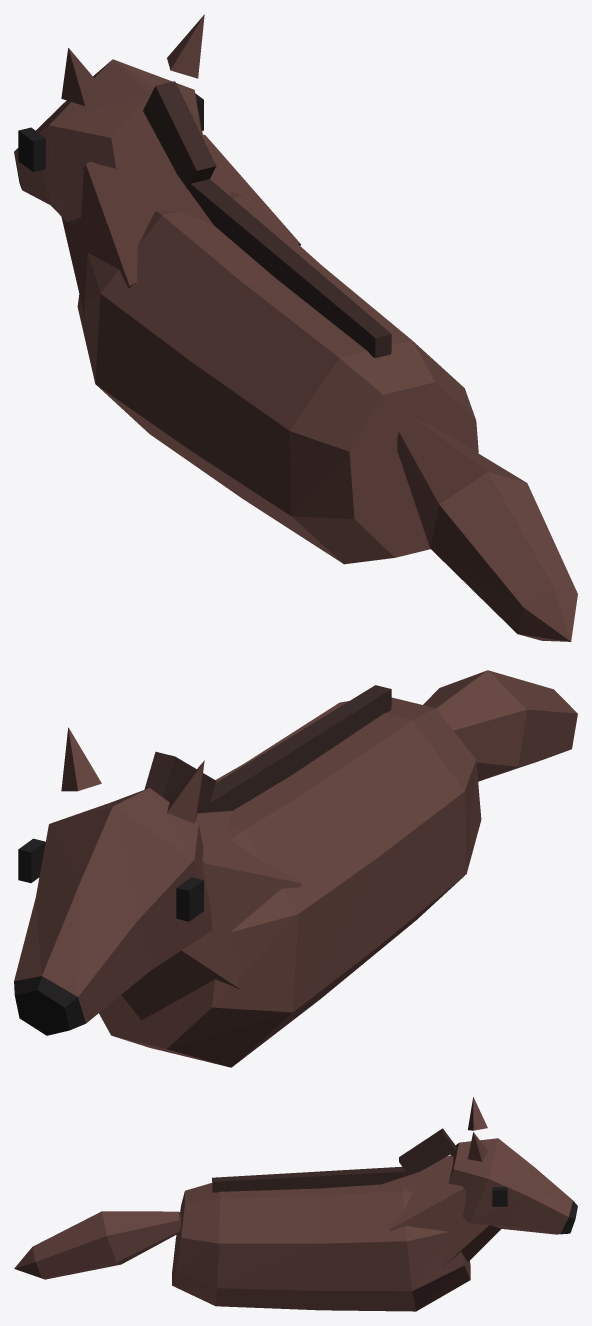
The model's file is animal_warg.obj.
3 renders of one model, top to bottom at view 1: azimuth 30°, elevation 25°; view 2: azimuth 150°, elevation 25°; view 3: azimuth 270°, elevation 25°, orthographic. The views are drawn at different scales.
Visible parts, largest first — view 1: animal_warg; view 2: animal_warg; view 3: animal_warg.
Boxes of the visible parts, x1,y1,x2,y2 form: animal_warg: (14, 14, 577, 641); animal_warg: (14, 670, 577, 1067); animal_warg: (14, 1097, 577, 1311).
Size of the model in its own units: 0.4622 by 0.7907 by 2.16.
